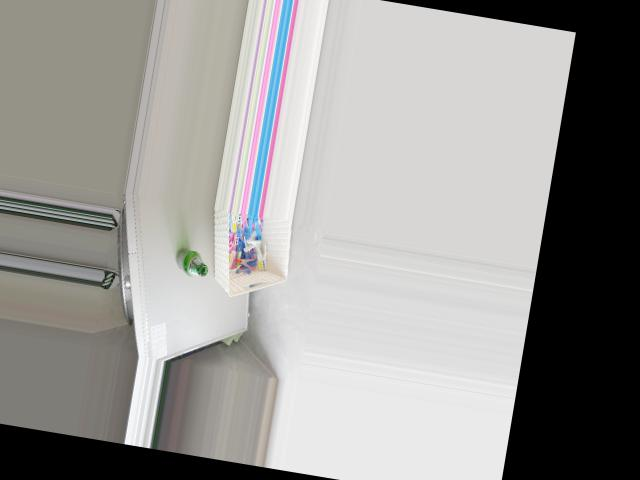beer: (172, 247, 210, 277)
